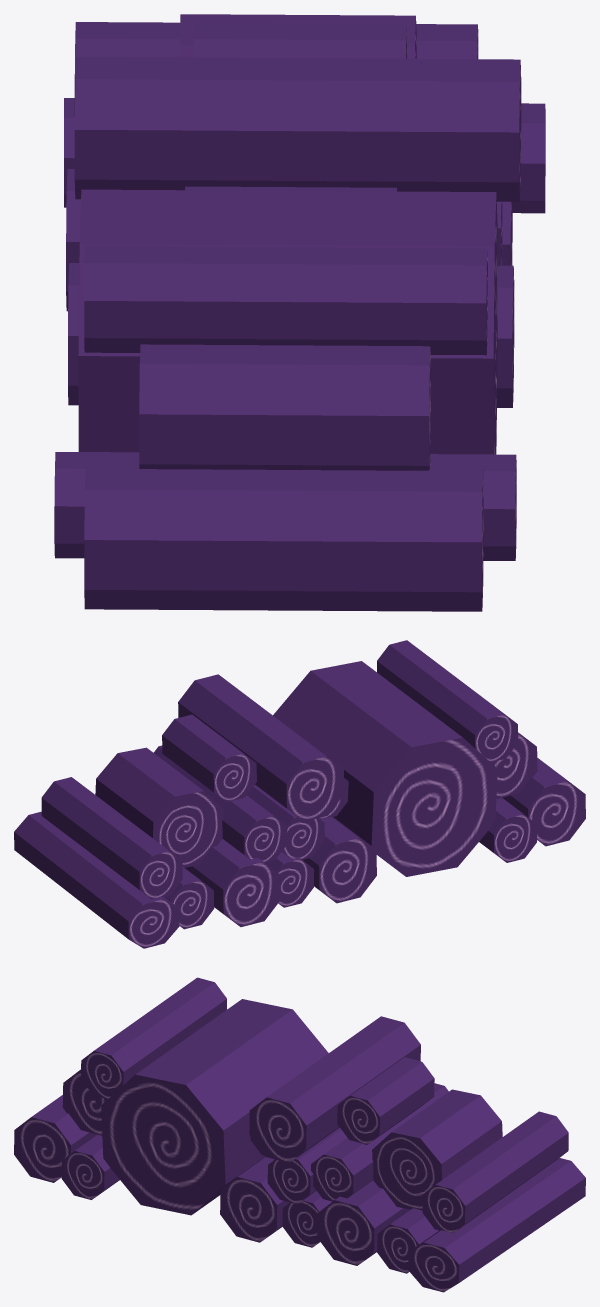
Rendered from Asset_BlockForest_Logs_02.fbx.
3 views of the same model, one above another, from view 1: azimuth 30°, elevation 25°; view 2: azimuth 150°, elevation 25°; view 3: azimuth 270°, elevation 25° (orthographic). The views are drawn at different scales.
Parts seen in each view (by area): view 1: pCylinder12, pCylinder3, pCylinder5, pCylinder2, pCylinder4, pCylinder1, pCylinder17, pCylinder16, pCylinder6, pCylinder14, pCylinder15, pCylinder9 (+1 smaller); view 2: pCylinder2, pCylinder12, pCylinder15, pCylinder14, pCylinder16, pCylinder5, pCylinder17, pCylinder9, pCylinder6, pCylinder3, pCylinder11, pCylinder1 (+4 smaller); view 3: pCylinder2, pCylinder12, pCylinder14, pCylinder15, pCylinder16, pCylinder5, pCylinder17, pCylinder9, pCylinder3, pCylinder6, pCylinder11, pCylinder10 (+4 smaller).
Boxes of the visible parts, left/top/right/bottom form: pCylinder12: left=74, top=57, right=521, bottom=201; pCylinder3: left=84, top=467, right=483, bottom=611; pCylinder5: left=84, top=246, right=487, bottom=355; pCylinder2: left=78, top=189, right=497, bottom=454; pCylinder4: left=139, top=344, right=430, bottom=470; pCylinder1: left=54, top=452, right=516, bottom=560; pCylinder17: left=194, top=22, right=406, bottom=58; pCylinder16: left=74, top=22, right=478, bottom=114; pCylinder6: left=68, top=263, right=514, bottom=407; pCylinder14: left=64, top=98, right=545, bottom=213; pCylinder15: left=179, top=14, right=416, bottom=58; pCylinder9: left=66, top=169, right=512, bottom=311; pCylinder2: left=273, top=661, right=497, bottom=876; pCylinder12: left=178, top=674, right=344, bottom=821; pCylinder15: left=95, top=747, right=223, bottom=867; pCylinder14: left=14, top=811, right=179, bottom=948; pCylinder16: left=41, top=777, right=182, bottom=899; pCylinder5: left=377, top=640, right=518, bottom=762; pCylinder17: left=162, top=714, right=256, bottom=802; pCylinder9: left=185, top=839, right=280, bottom=926; pCylinder6: left=303, top=816, right=376, bottom=903; pCylinder3: left=502, top=758, right=585, bottom=846; pCylinder11: left=153, top=745, right=287, bottom=862; pCylinder1: left=479, top=798, right=536, bottom=862; pCylinder2: left=101, top=999, right=328, bottom=1215; pCylinder12: left=249, top=1016, right=420, bottom=1162; pCylinder14: left=408, top=1158, right=585, bottom=1292; pCylinder15: left=372, top=1089, right=502, bottom=1210; pCylinder16: left=422, top=1111, right=568, bottom=1233; pCylinder5: left=81, top=977, right=226, bottom=1099; pCylinder17: left=337, top=1057, right=434, bottom=1144; pCylinder9: left=317, top=1180, right=410, bottom=1265; pCylinder3: left=14, top=1095, right=97, bottom=1182; pCylinder6: left=220, top=1157, right=289, bottom=1242; pCylinder11: left=311, top=1083, right=448, bottom=1201; pCylinder10: left=267, top=1127, right=347, bottom=1204.
Size of the model in its own units: 75.99 by 26.79 by 93.39.
